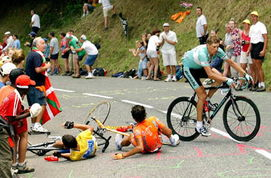10+: (1, 1, 268, 177)
down: (98, 104, 181, 162), (54, 118, 98, 164)
